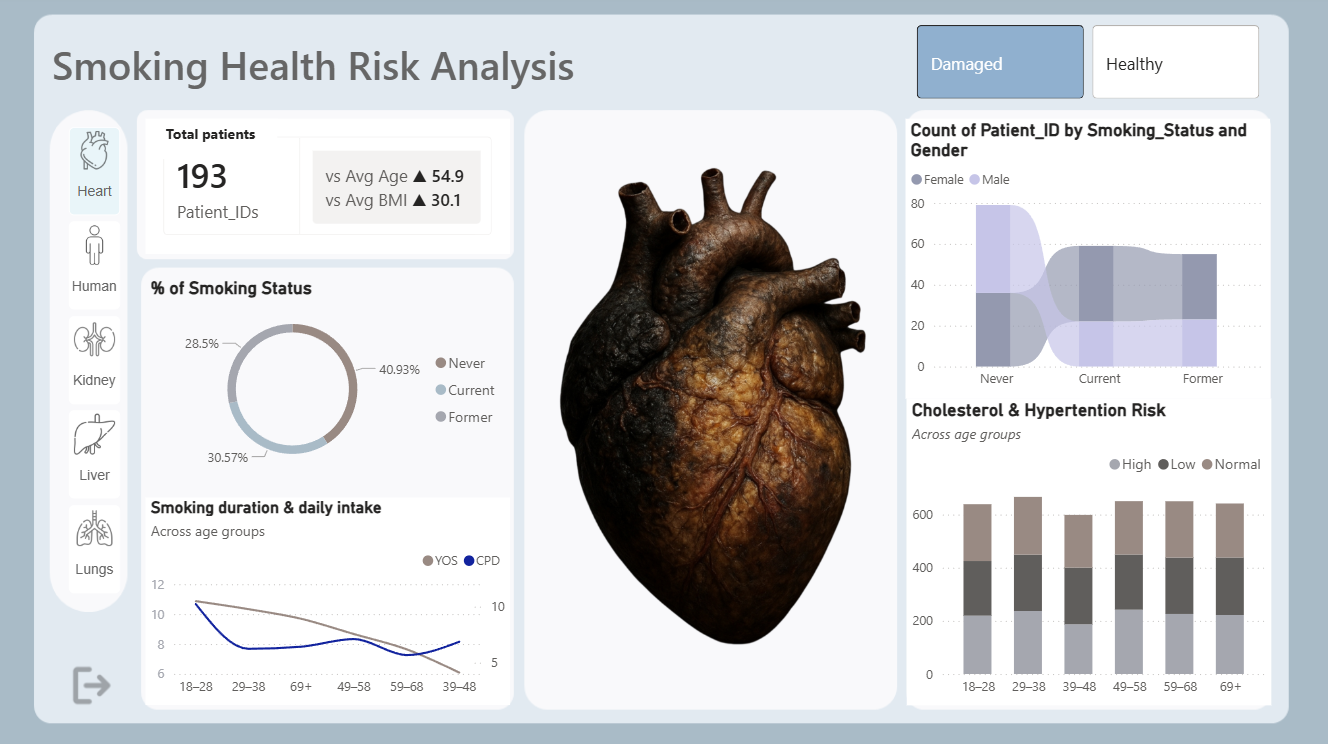

Layout of this report page (visuals, bound fields, positions):
{"tool":"powerbi","page":{"name":"Page 1","canvas":[1280,720],"ordinal":0},"visuals":[{"type":"cardVisual","fields":{"Data":["CountNonNull(health_dataset.Patient_ID)"]},"box":[145.5,118,347.2,129],"z":0},{"type":"advancedSlicerVisual","fields":{"Values":["condition.Organ_Condition"]},"box":[875.5,23.3,336.2,81],"z":1},{"type":"ChicletSlicer1448559807354","fields":{"Category":["Organs.Organ"],"Image":["Organs.Icon_URL"]},"box":[64.5,118,70,465.2],"z":2},{"type":"image","box":[511.8,118,347.2,558.5],"z":3},{"type":"donutChart","title":"% of Smoking Status","fields":{"Category":["health_dataset.Smoking_Status"],"Y":["CountNonNull(health_dataset.Smoking_Status)"]},"box":[145.5,269,347.2,193.5],"z":4},{"type":"lineChart","title":"Smoking duration & daily intake ","fields":{"Category":["health_dataset.Age Group"],"Y":["Avg(health_dataset.Years_of_Smoking)"],"Y2":["Avg(health_dataset.Cigarettes_Per_Day)"]},"box":[145.5,478.9,347.2,197.6],"z":5},{"type":"ribbonChart","fields":{"Category":["health_dataset.Smoking_Status"],"Y":["CountNonNull(health_dataset.Patient_ID)"],"Series":["health_dataset.Gender"]},"box":[868.6,118,347.2,266.2],"z":6},{"type":"columnChart","title":"Cholesterol & Hypertention Risk","fields":{"Category":["health_dataset.Age Group"],"Y":["Avg(health_dataset.Cholesterol_Level)"],"Series":["health_dataset.BP_Risk"]},"box":[870,384.2,347.2,292.3],"z":7},{"type":"textbox","box":[159.2,118,111.1,38.4],"z":8},{"type":"textbox","box":[50.8,35.7,668.3,68.6],"z":9}]}

Visuals, with their boxes in screenshot pixels (x1, y1, x2, y2), scaled from the page's 1280x720 canvas onto the 1328x744 screenshot:
cardVisual - CountNonNull(health_dataset.Patient_ID): rect(151, 122, 511, 255)
advancedSlicerVisual - condition.Organ_Condition: rect(908, 24, 1257, 108)
ChicletSlicer1448559807354 - Organs.Organ x Organs.Icon_URL: rect(67, 122, 140, 603)
image: rect(531, 122, 891, 699)
"% of Smoking Status" donutChart: rect(151, 278, 511, 478)
"Smoking duration & daily intake " lineChart: rect(151, 495, 511, 699)
ribbonChart - health_dataset.Smoking_Status x CountNonNull(health_dataset.Patient_ID): rect(901, 122, 1261, 397)
"Cholesterol & Hypertention Risk" columnChart: rect(903, 397, 1263, 699)
textbox: rect(165, 122, 280, 162)
textbox: rect(53, 37, 746, 108)
